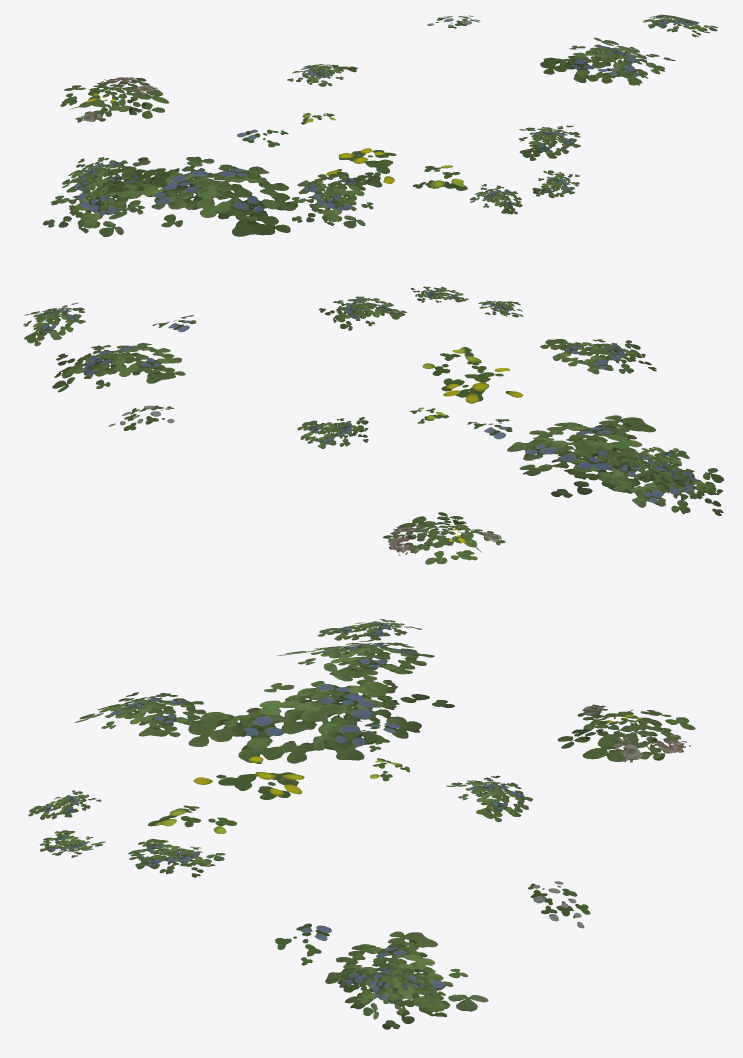
The model's file is flowers_003.fbx.
The picture shows the model from 3 angles, top to bottom: view 1: azimuth 30°, elevation 25°; view 2: azimuth 150°, elevation 25°; view 3: azimuth 270°, elevation 25°; orthographic projection. The views are drawn at different scales.
Visible parts, largest first — view 1: flowers_003; view 2: flowers_003; view 3: flowers_003.
Part boxes in pixels (<box>): flowers_003: <box>43,14,717,236</box>; flowers_003: <box>23,286,723,564</box>; flowers_003: <box>28,619,695,1029</box>.
Size of the model in its own units: 39273 by 2832 by 27179.
